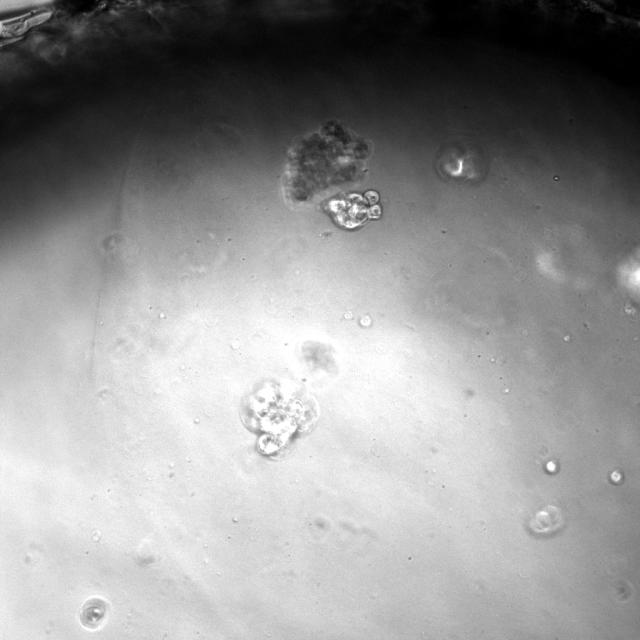organoid: (282, 120, 372, 204), (241, 379, 319, 456), (434, 138, 488, 183), (322, 190, 382, 230), (78, 596, 110, 631), (528, 505, 564, 535), (543, 458, 559, 474), (608, 469, 624, 485)
